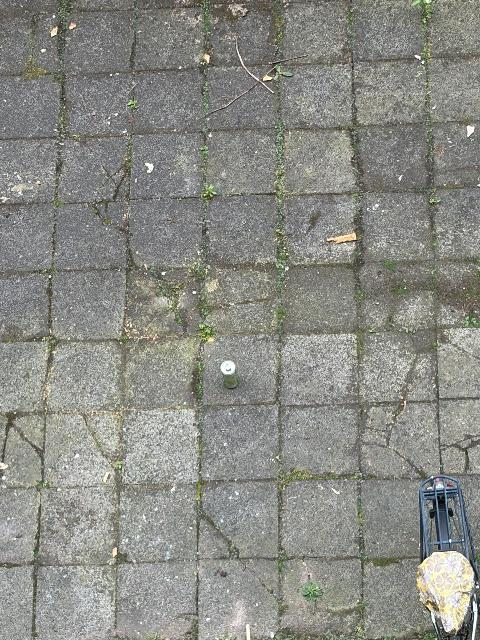can: (220, 360, 242, 389)
